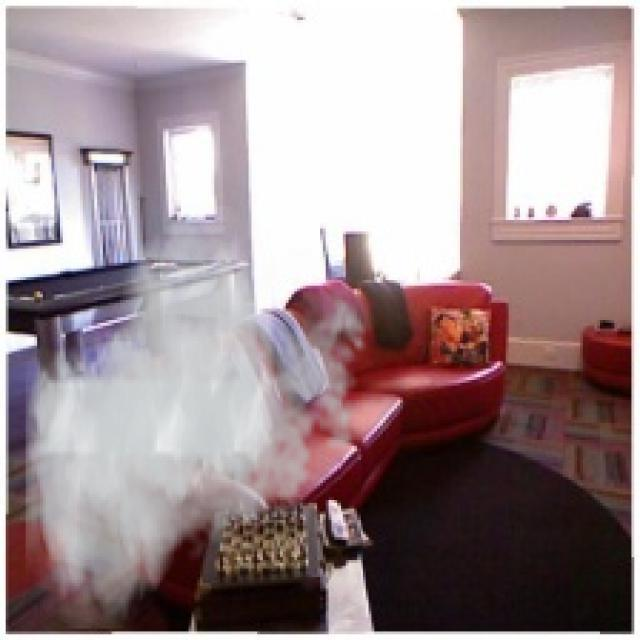Smoke: (26, 206, 377, 628)
